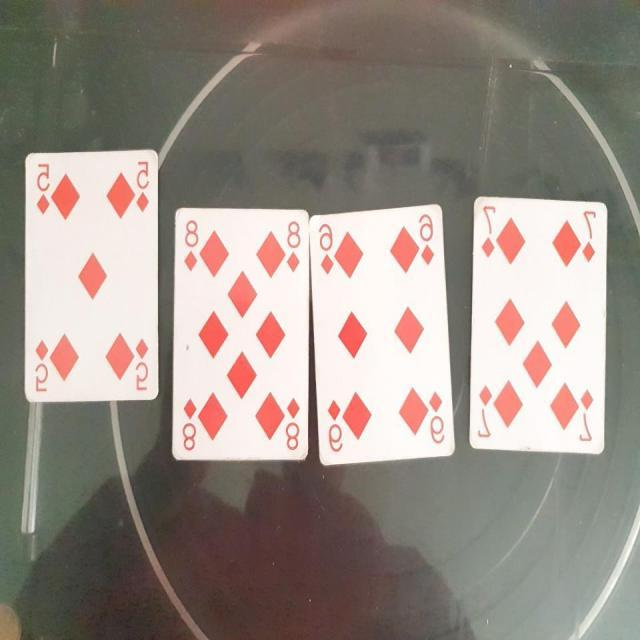5 of diamonds: (22, 147, 160, 403)
6 of diamonds: (310, 203, 456, 467)
7 of diamonds: (468, 196, 610, 457)
8 of diamonds: (170, 200, 310, 460)
